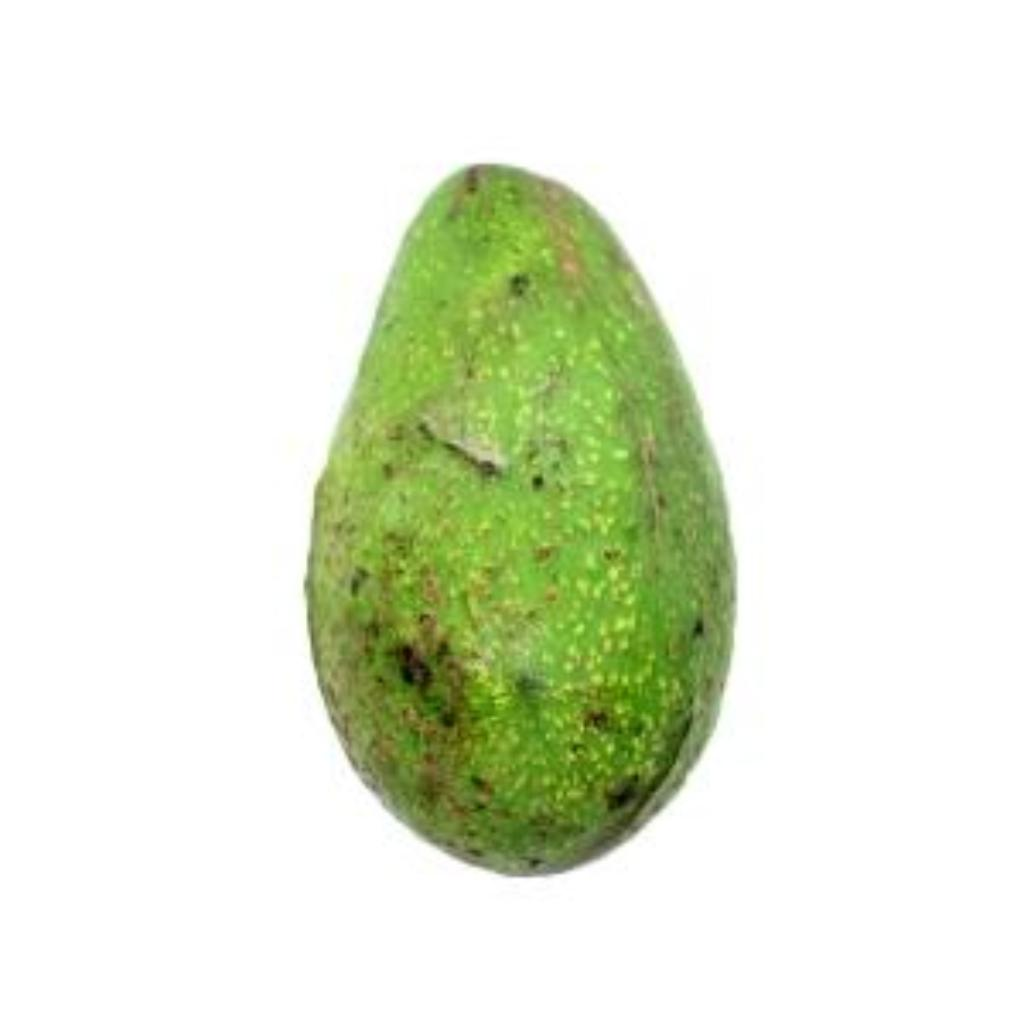cercospora: (245, 143, 740, 877)
